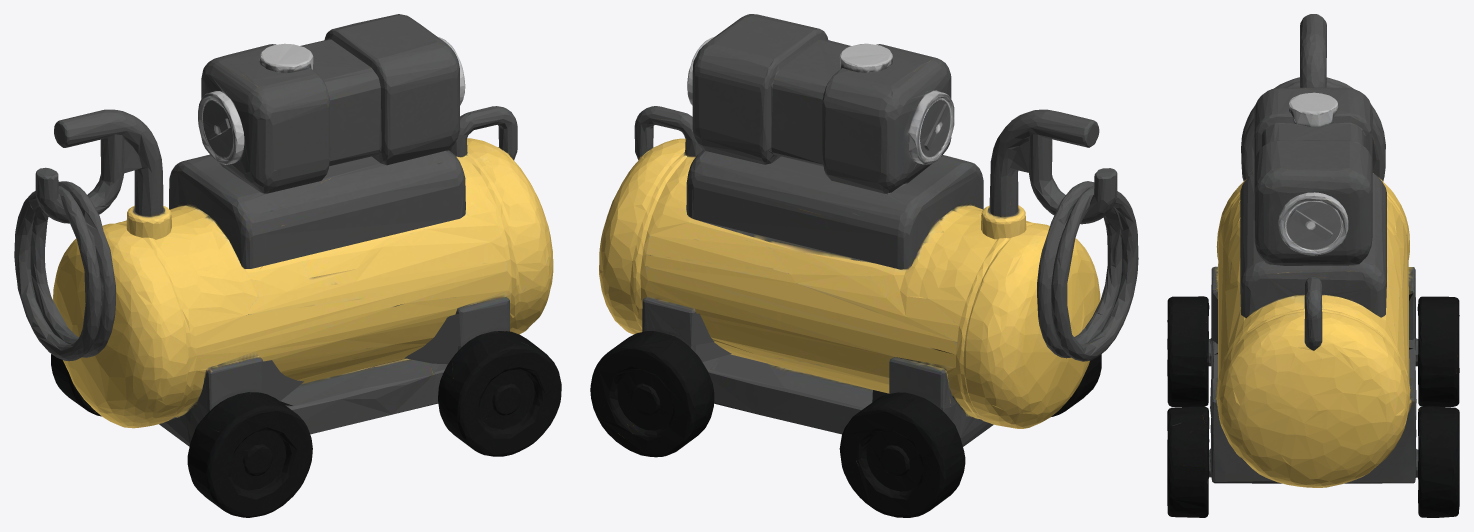
Rendered from compressor_v1.glb.
3 views of the same model, side by side, from view 1: azimuth 30°, elevation 25°; view 2: azimuth 150°, elevation 25°; view 3: azimuth 270°, elevation 25° (orthographic). The views are drawn at different scales.
Visible parts, largest first — view 1: body_mesh, motor_mesh, nozzle_mesh, wheelF_mesh, wheelR_mesh; view 2: body_mesh, motor_mesh, nozzle_mesh, wheelF_mesh, wheelR_mesh; view 3: body_mesh, motor_mesh, wheelR_mesh, wheelF_mesh, nozzle_mesh.
Boxes of the visible parts, x1=… form: body_mesh: x1=51, y1=109, x2=561, y2=502; motor_mesh: x1=174, y1=14, x2=517, y2=238; nozzle_mesh: x1=14, y1=110, x2=143, y2=421; wheelF_mesh: x1=348, y1=305, x2=558, y2=456; wheelR_mesh: x1=59, y1=368, x2=342, y2=517; body_mesh: x1=590, y1=109, x2=1101, y2=502; motor_mesh: x1=634, y1=14, x2=981, y2=238; nozzle_mesh: x1=1014, y1=110, x2=1138, y2=418; wheelF_mesh: x1=598, y1=302, x2=784, y2=457; wheelR_mesh: x1=800, y1=362, x2=1091, y2=517; body_mesh: x1=1167, y1=30, x2=1459, y2=514; motor_mesh: x1=1240, y1=87, x2=1386, y2=339; wheelR_mesh: x1=1167, y1=285, x2=1459, y2=406; wheelF_mesh: x1=1167, y1=401, x2=1459, y2=517; nozzle_mesh: x1=1241, y1=14, x2=1385, y2=181.
Bounding box in the file's own units: 1 × 0.7467 × 0.5706.
1 material, 1 textured.
